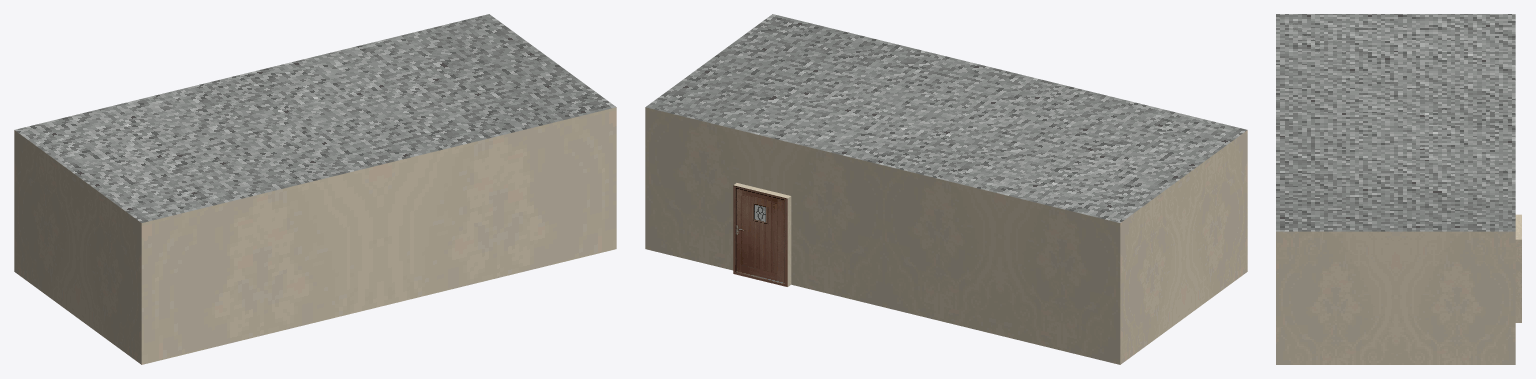
File: houseTestInterior.glb
3 renders of one model, left to right at view 1: azimuth 30°, elevation 25°; view 2: azimuth 150°, elevation 25°; view 3: azimuth 270°, elevation 25°, orthographic. The views are drawn at different scales.
Visible parts, largest first — view 1: Interior; view 2: Interior; view 3: Interior.
Boxes of the visible parts, x1,y1,x2,y2 form: Interior: (14,14,616,364); Interior: (645,14,1247,364); Interior: (1276,14,1521,364).
Bounding box in the file's own units: 2 × 0.5705 × 0.9545.
1 material, 1 textured.
